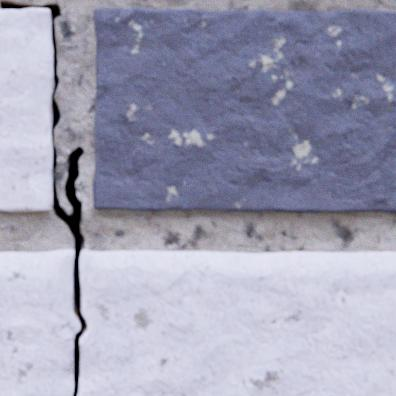brick: (93, 8, 395, 212), (0, 9, 53, 210)
broken_brick: (77, 249, 395, 395), (0, 249, 80, 395)
crack: (0, 0, 87, 395)
